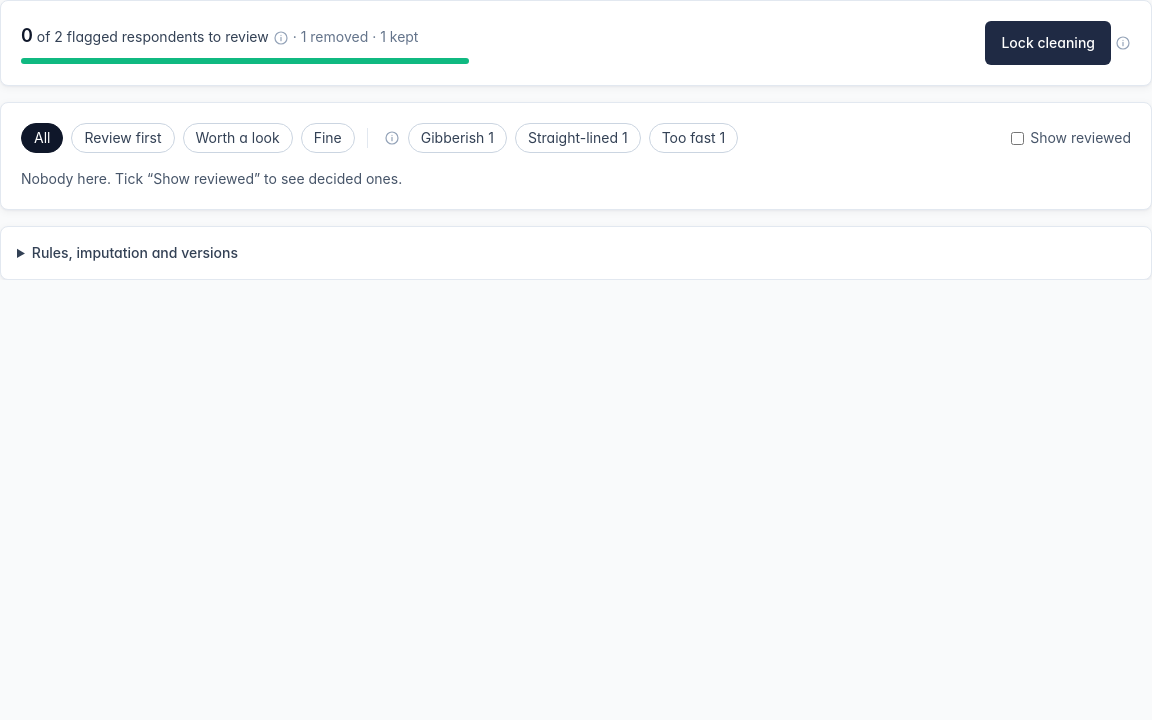
it: CleaningPanel › filters by check and hides reviewed respondents unless asked
Expected: the text "Nobody here. Tick “Show reviewed” to see decided ones." is shown, [21, 170, 402, 187]
Click the checkbox labelled "Show reviewed": (1018, 138) [1011, 132, 1024, 144]
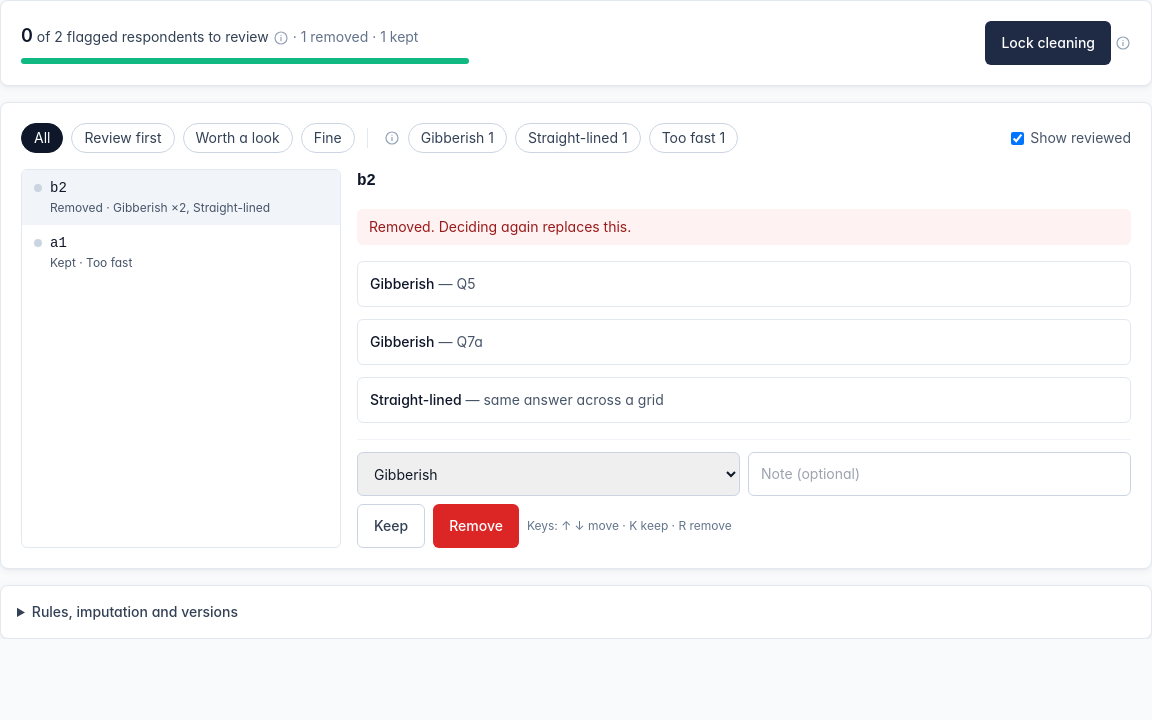
Click the button "Too fast 1": (693, 138) [649, 123, 738, 153]
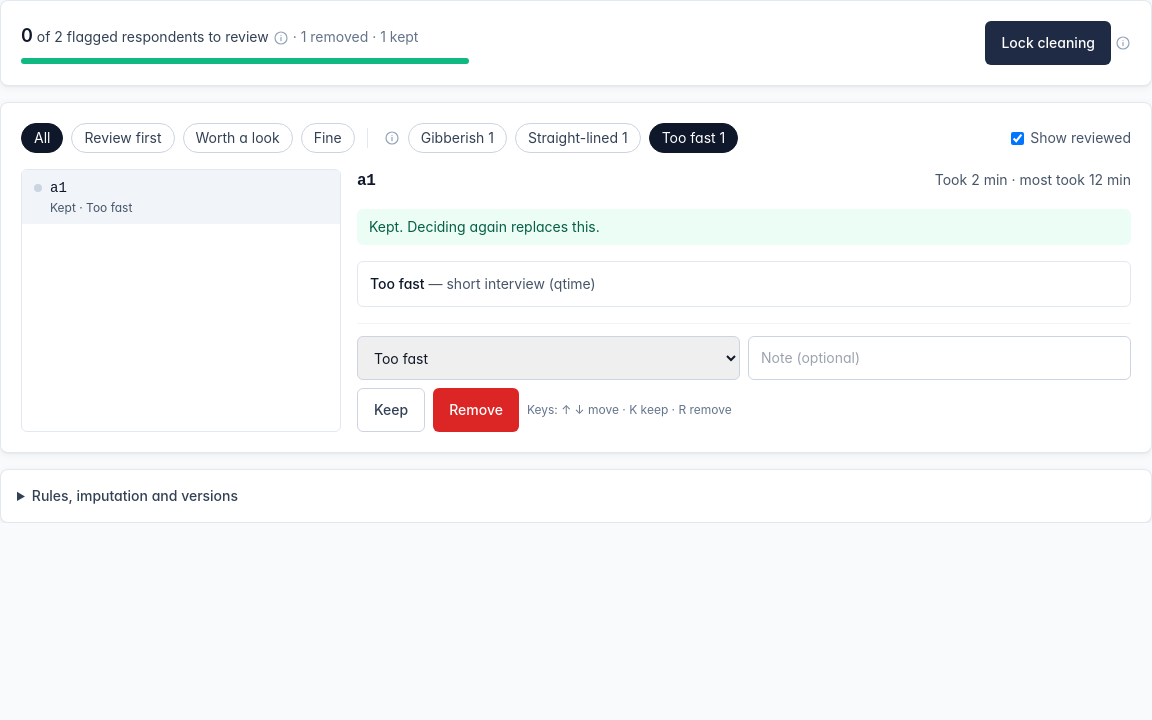
Expected: the text "a1" is shown, [50, 178, 67, 198]
Expected: the button "b2" is gone
